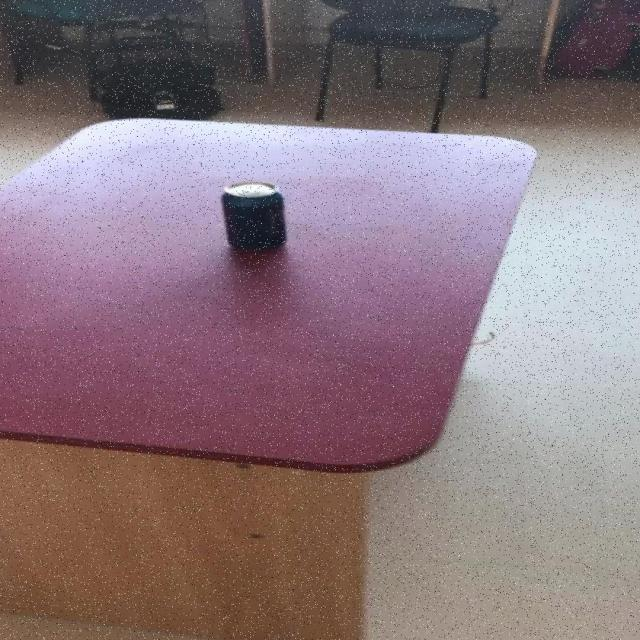Tonic: (222, 180, 289, 250)
